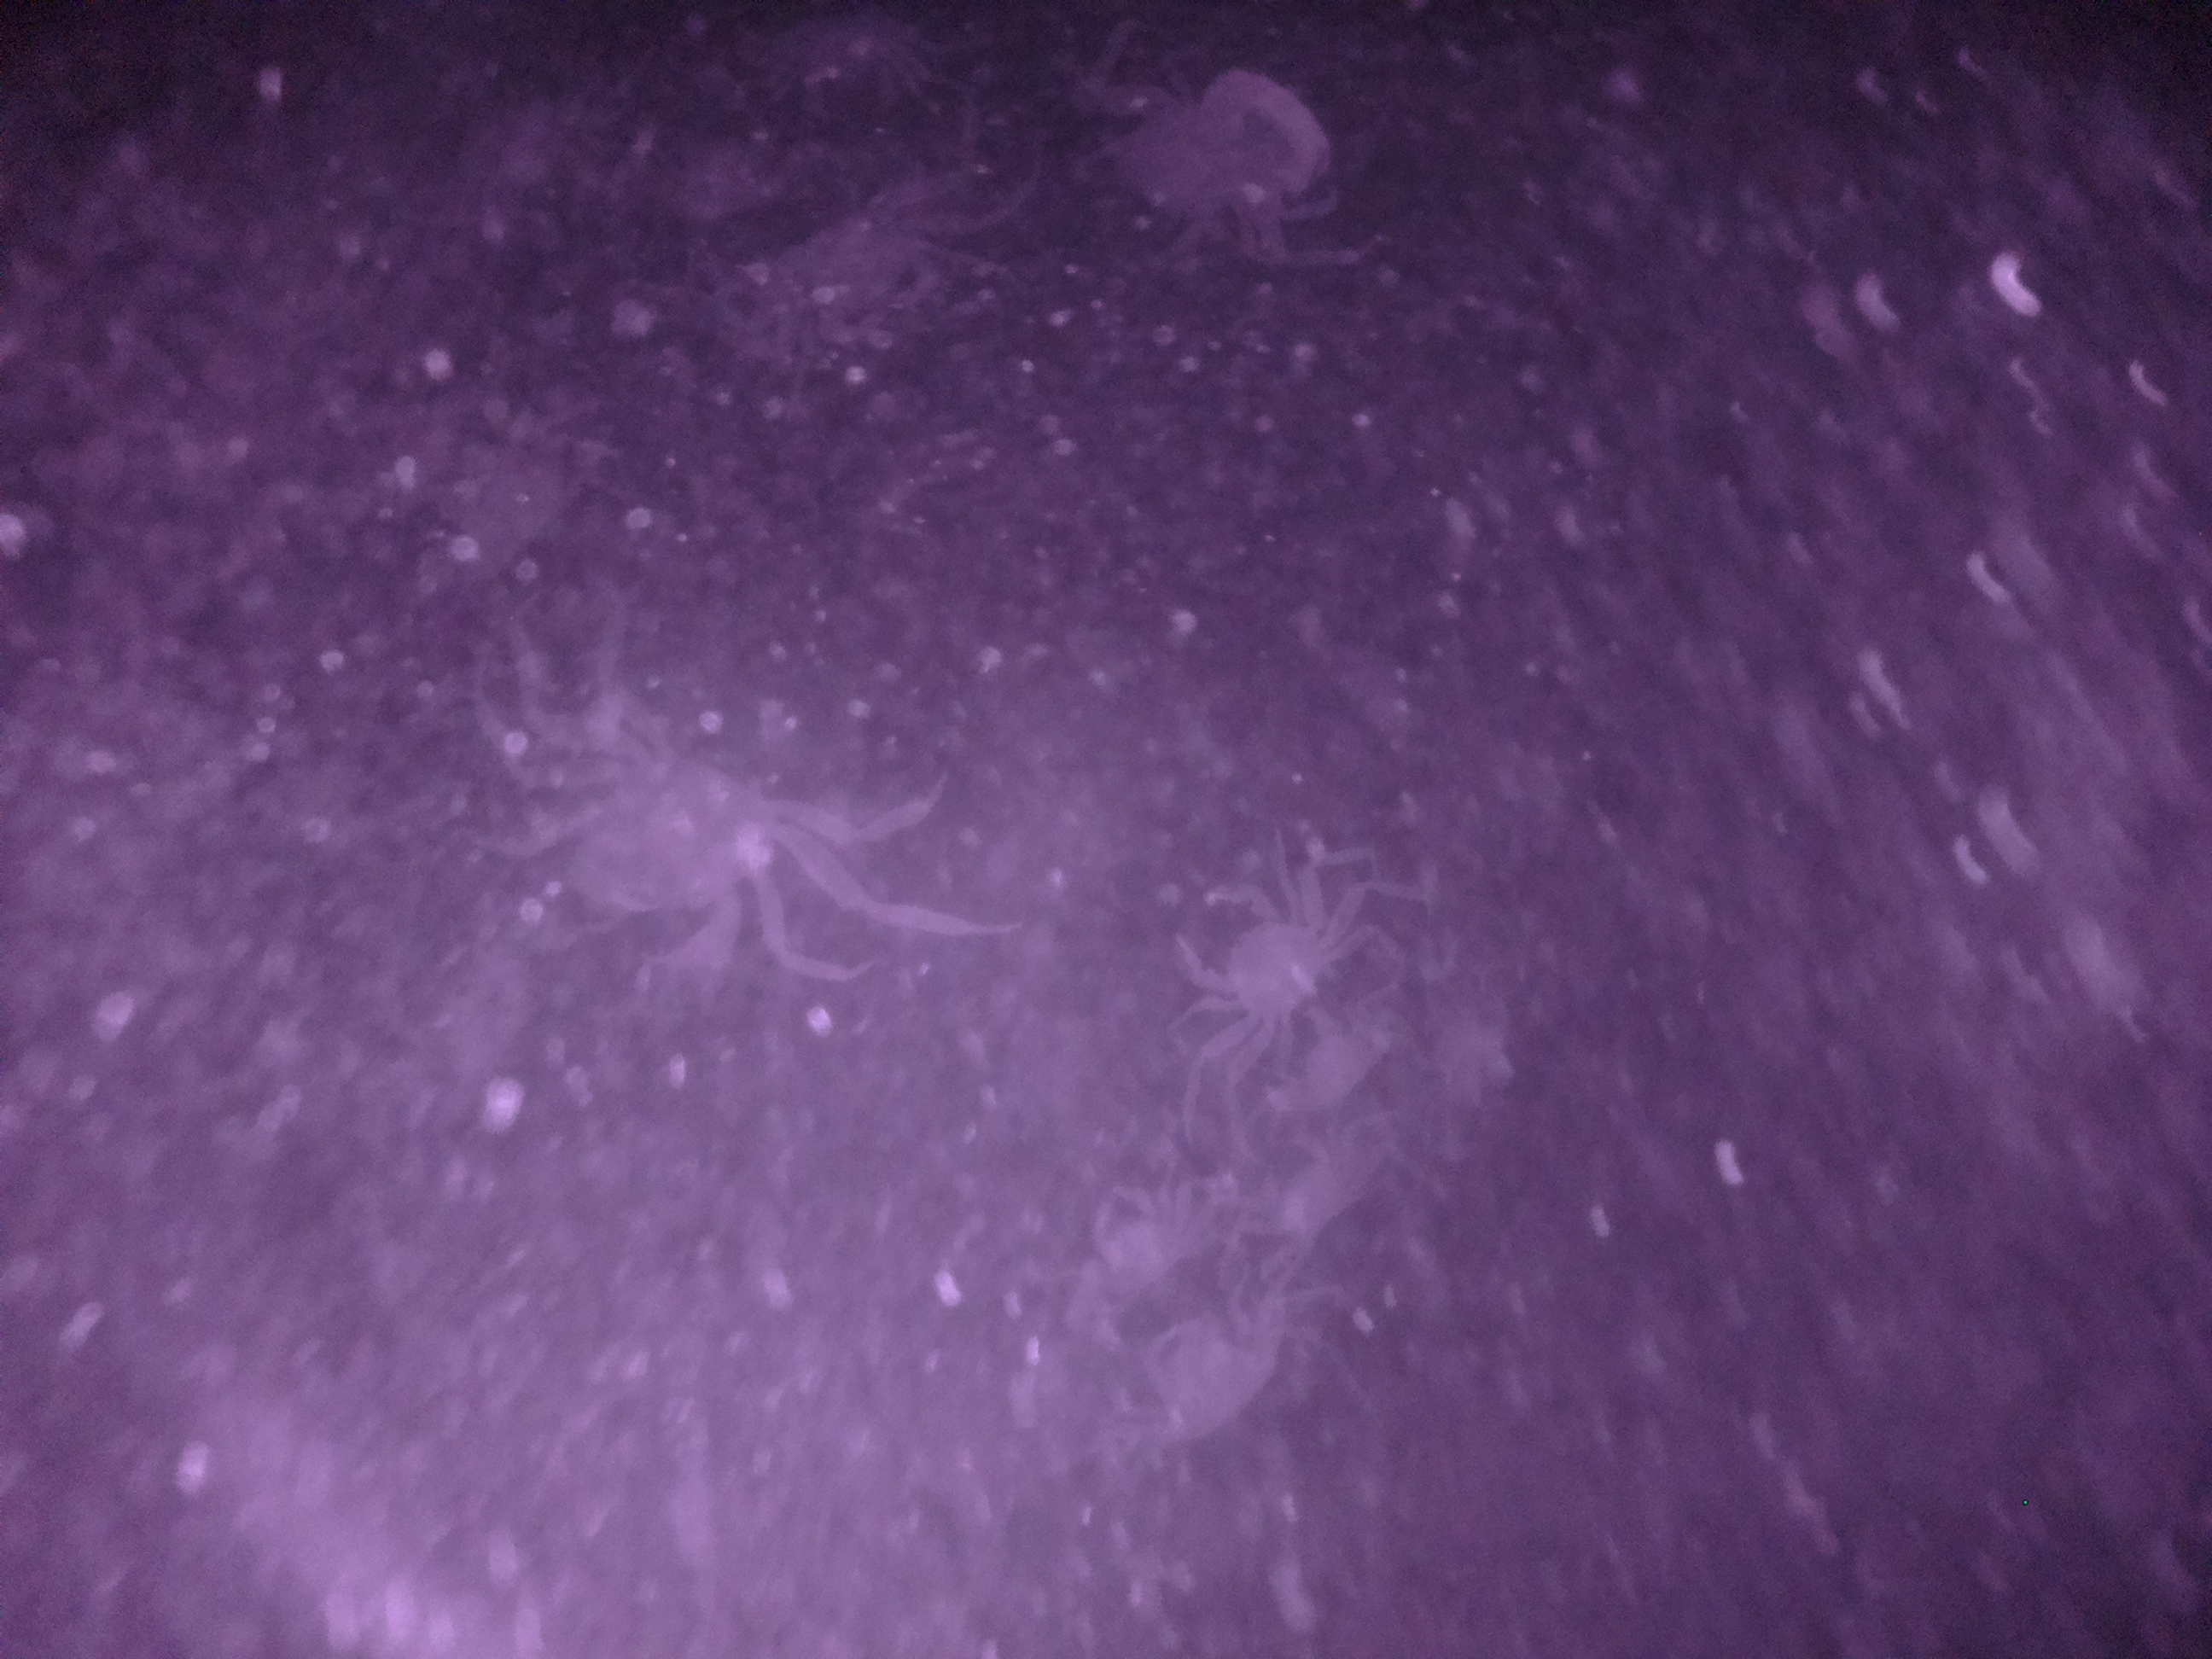Crab: (1148, 875, 1346, 1046)
